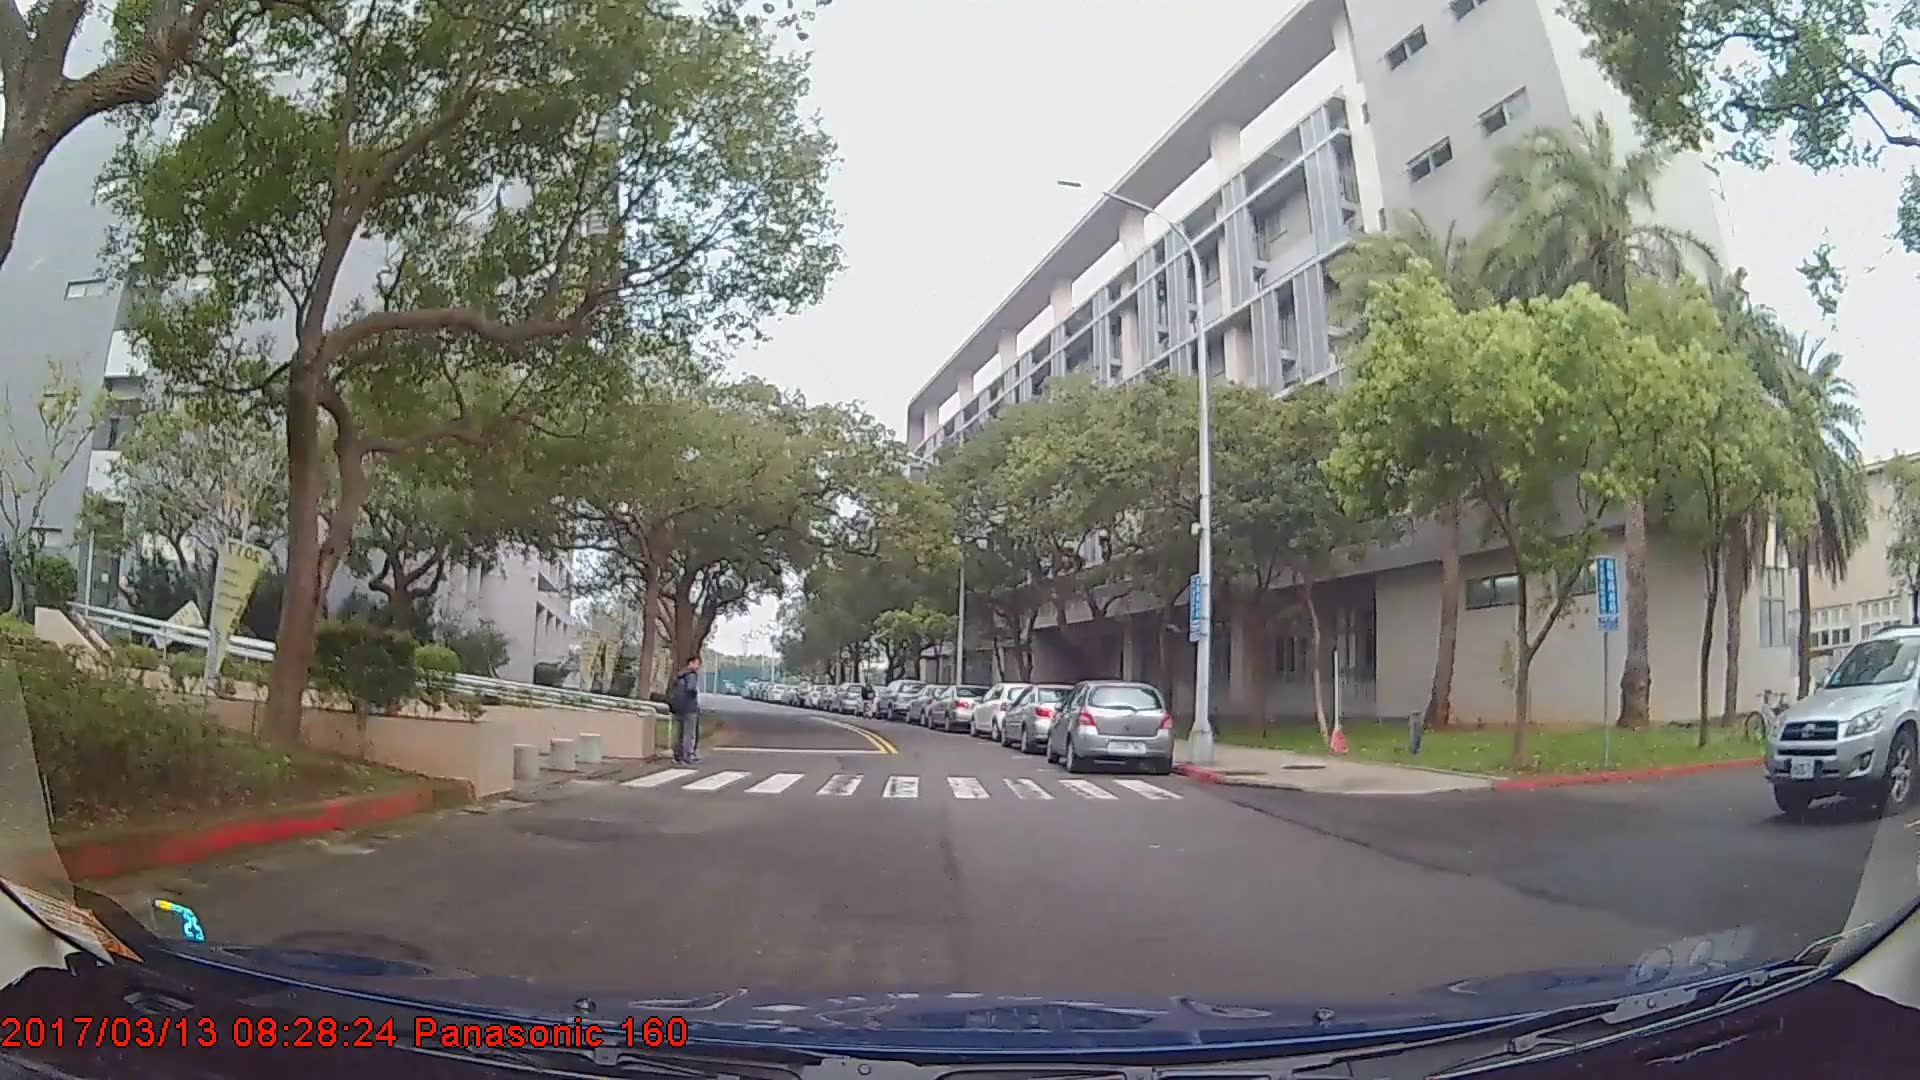pedestrian: (671, 657, 713, 776), (859, 678, 879, 720)
vehicle: (1763, 626, 1920, 818), (1045, 677, 1172, 772), (999, 683, 1094, 751), (970, 680, 1053, 740), (926, 682, 993, 732), (874, 675, 925, 719)
